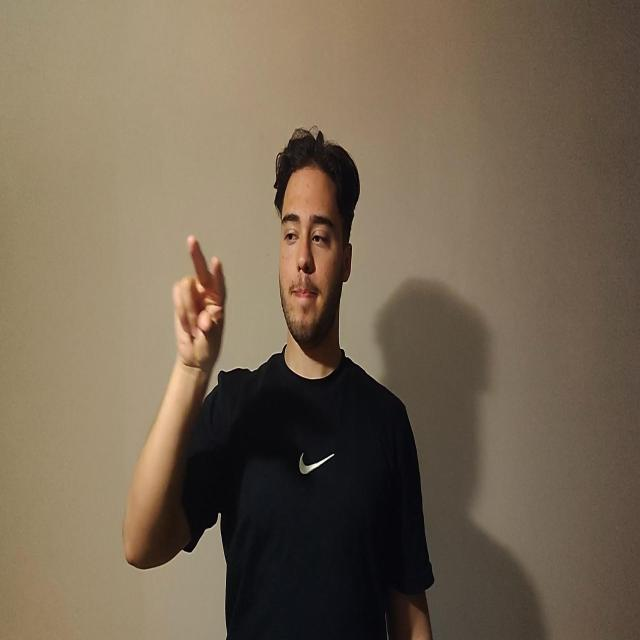no: (172, 234, 226, 376)
